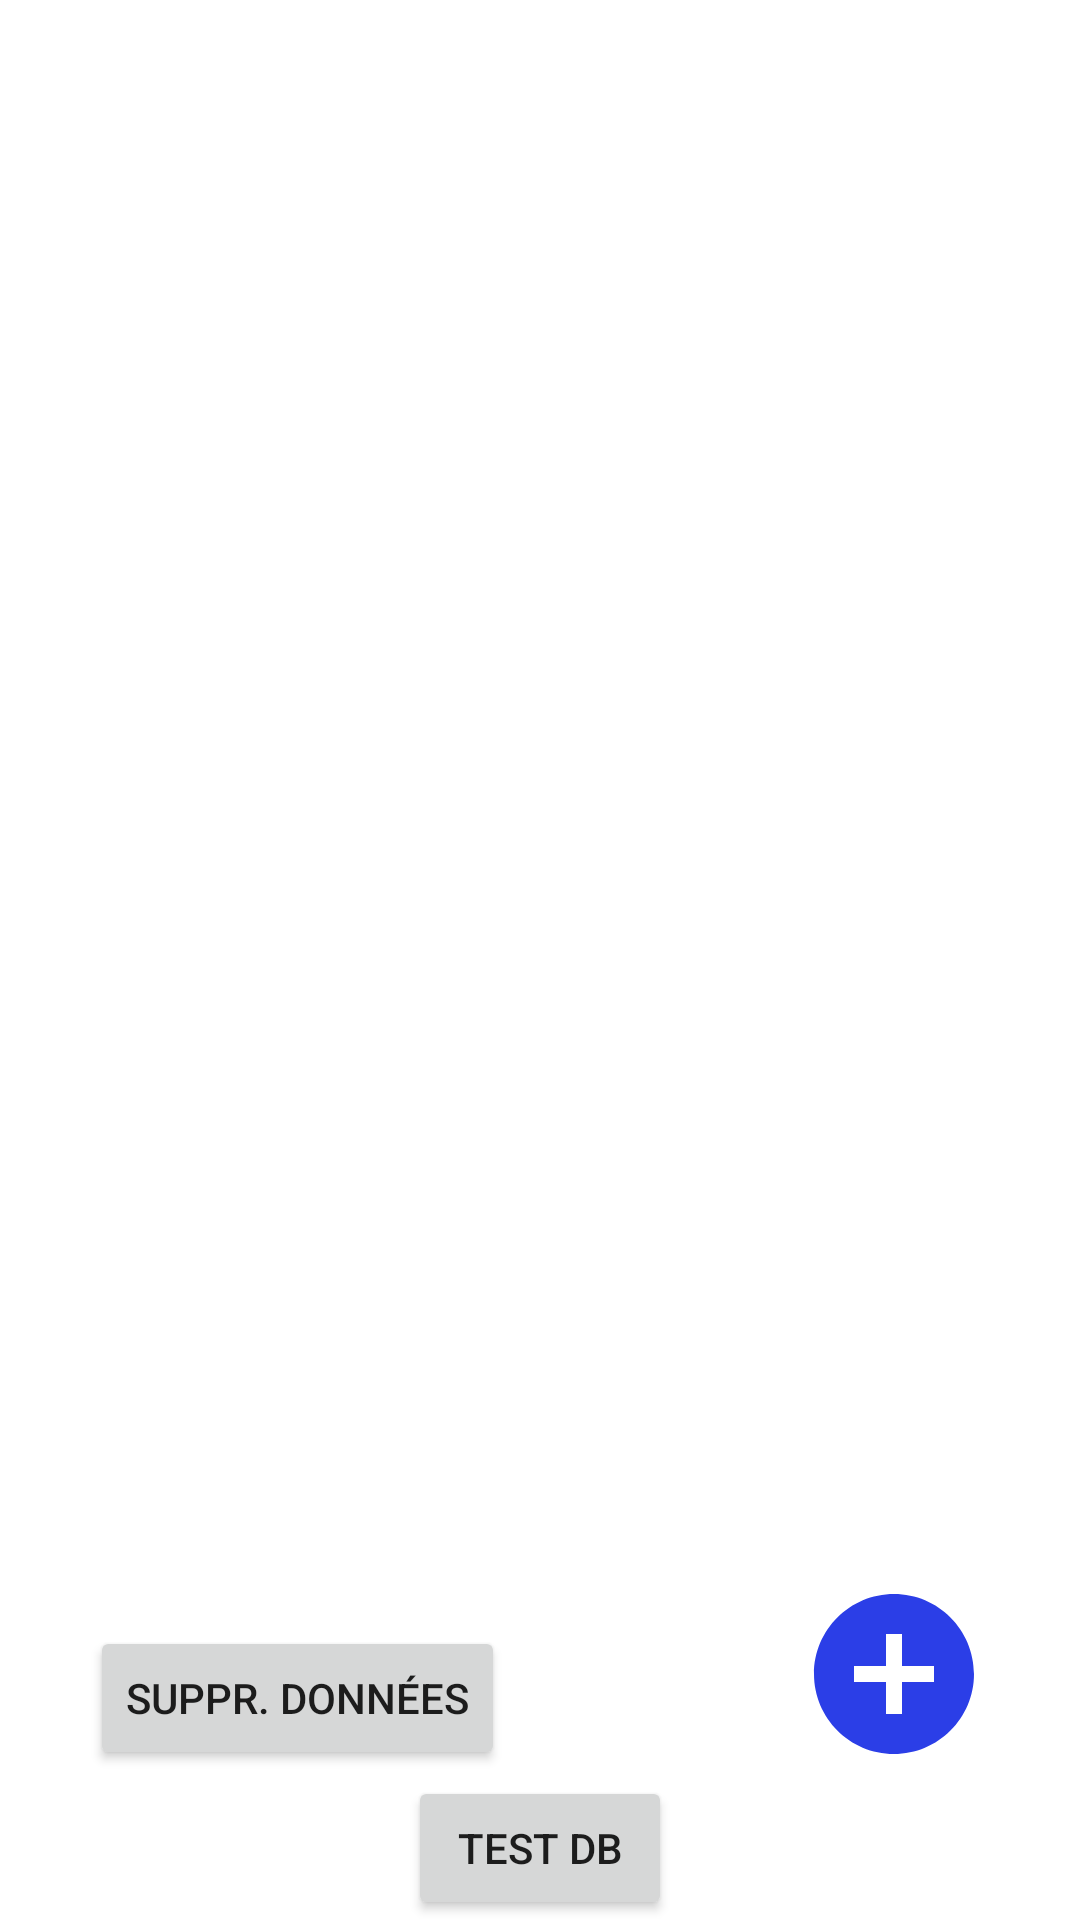

Screen size 1080px x 1920px. Icon name, then its box in pixels as [x1,y1,x2,y2]:
add circle: [814,1594,974,1754]
